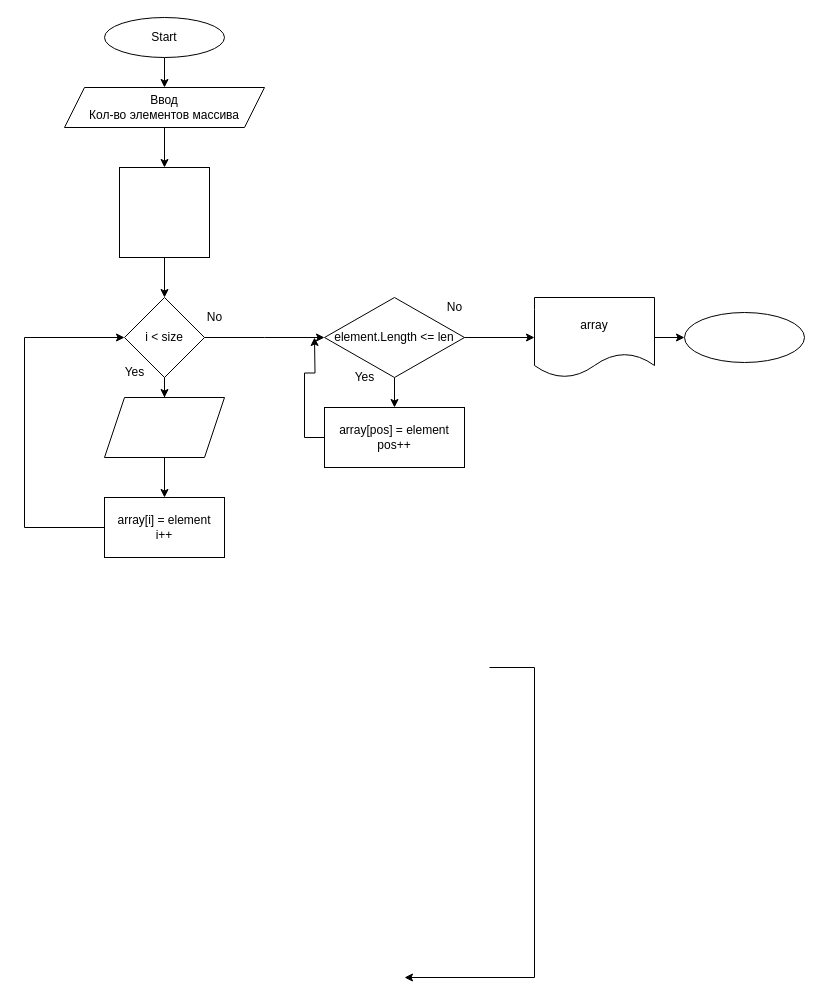
The diagram is 822 pixels wide and 1003 high, and some of its shapes have lost their labels. The shapes that lost their labels are listed below. From the top down, each one's centre as x and y in pixels, then its label:
At (164,212): "array[size] element i = 0 len = 3 pos = 0".
At (744,337): "End".
At (164,427): "Ввод element".
